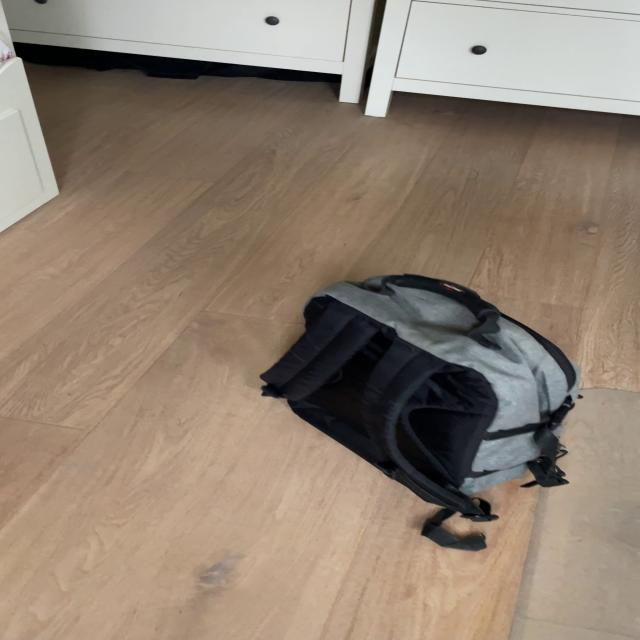backpack: (248, 260, 593, 516)
